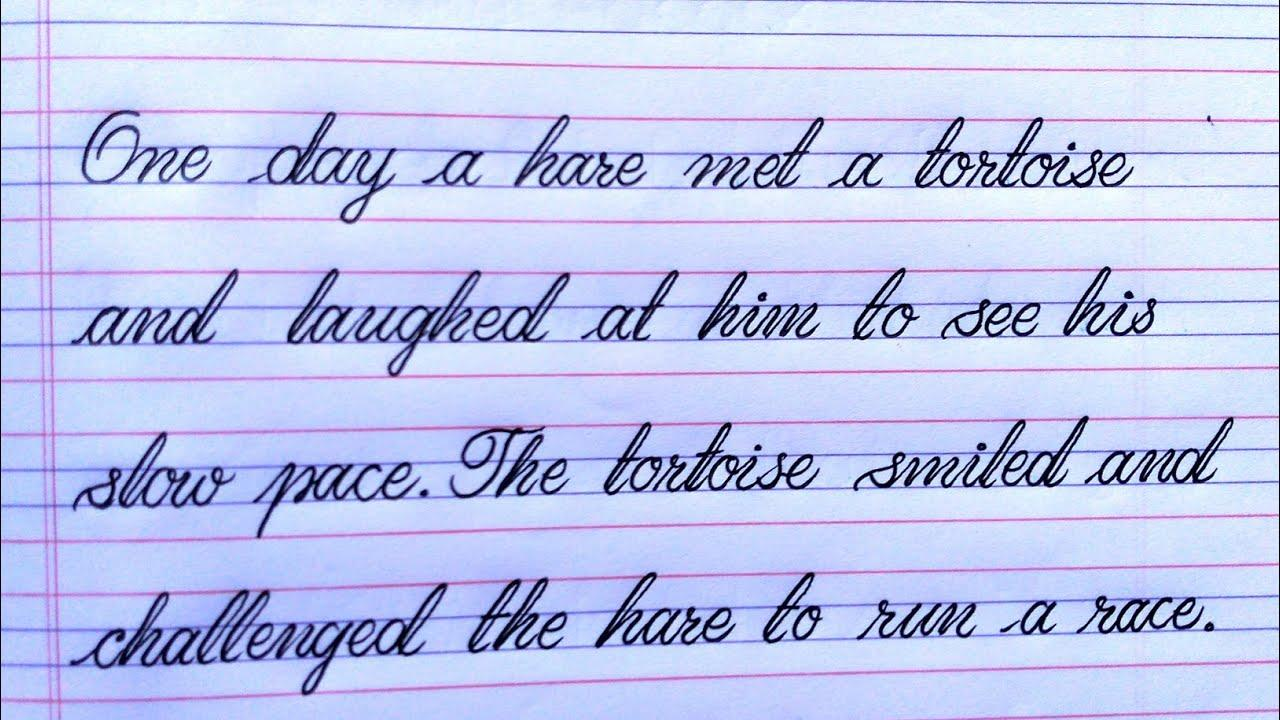text: (67, 567, 1219, 701), (65, 413, 1239, 544), (75, 106, 1139, 231), (68, 262, 1161, 383)
